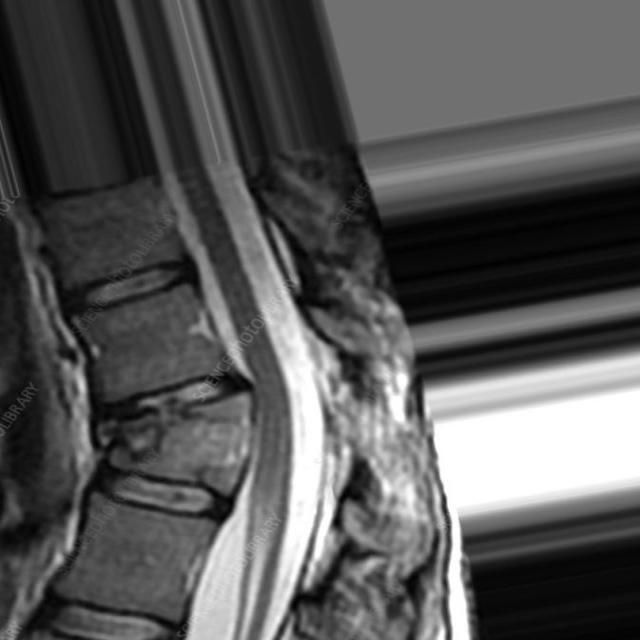Comminuted: (75, 367, 248, 472)
